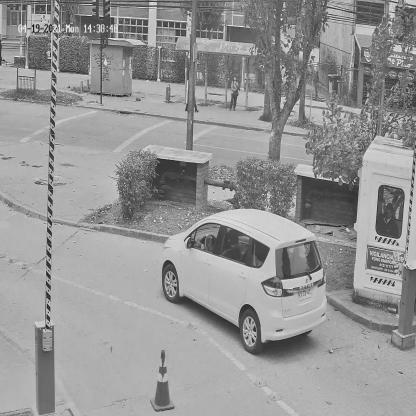Patente: (297, 286, 312, 302)
